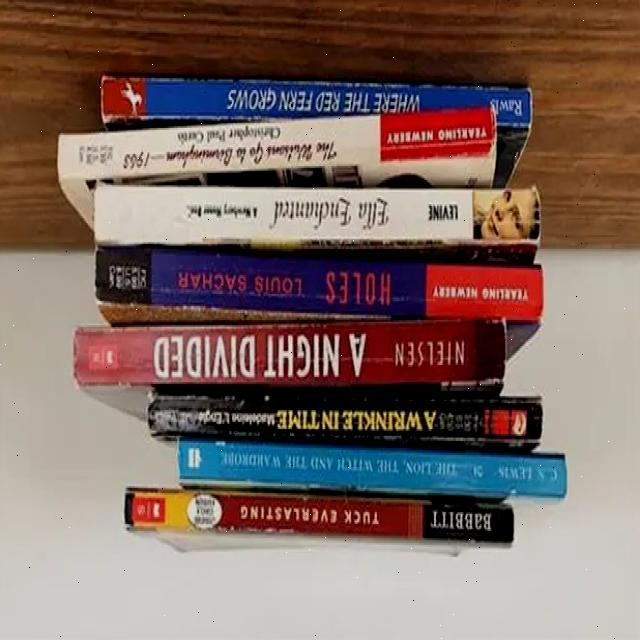book: (60, 106, 497, 183), (78, 318, 505, 386), (94, 187, 540, 244), (124, 491, 510, 545), (178, 442, 564, 496), (105, 266, 544, 312), (150, 394, 544, 444)
